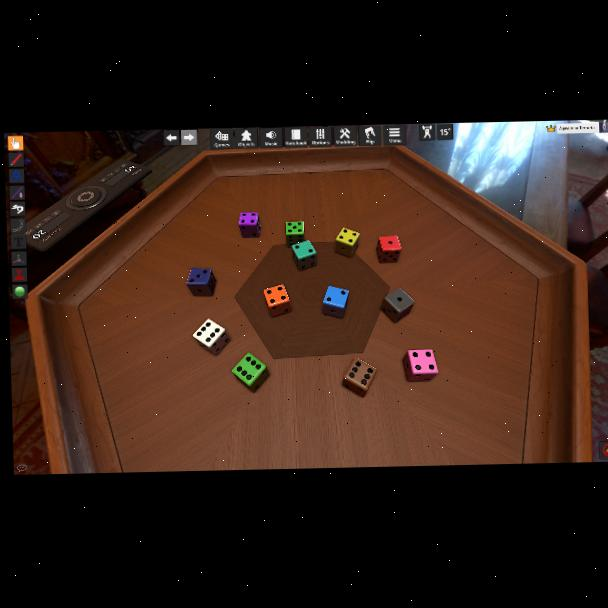d6: (341, 357, 376, 398), (231, 353, 267, 392), (192, 319, 229, 356), (381, 287, 415, 324), (402, 349, 436, 381), (186, 267, 217, 298), (323, 285, 351, 319), (263, 285, 291, 317), (334, 227, 359, 258), (290, 240, 315, 271), (377, 235, 402, 264), (237, 212, 259, 239), (285, 220, 305, 247)
